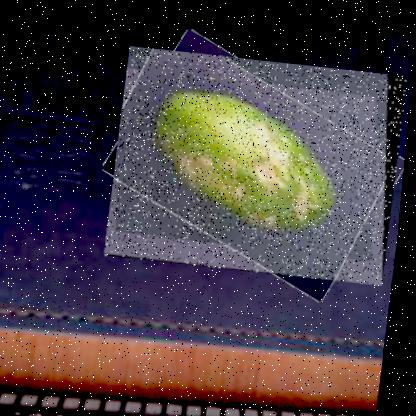orange_rotten: (106, 42, 408, 280)
